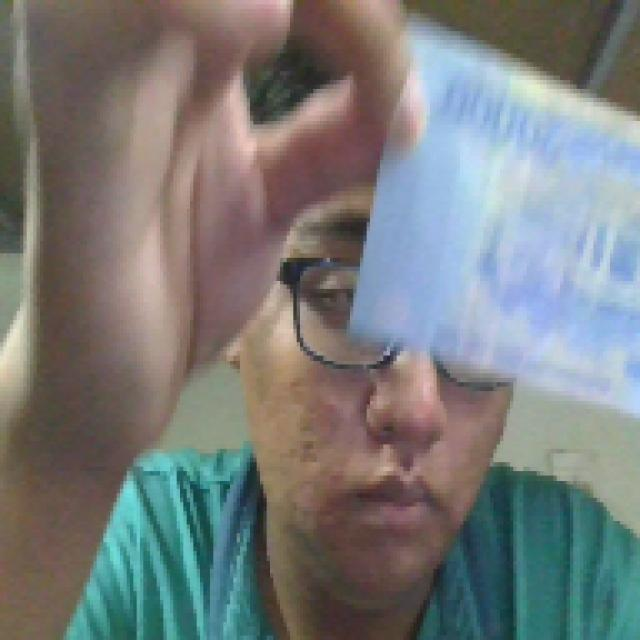20 000 VND: (340, 4, 637, 458)
